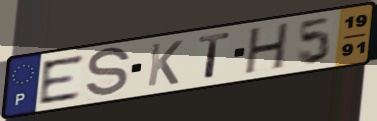5: (293, 14, 334, 67)
E: (38, 53, 86, 107)
H: (242, 20, 292, 77)
K: (145, 39, 185, 89)
S: (83, 45, 133, 100)
T: (197, 30, 233, 81)
